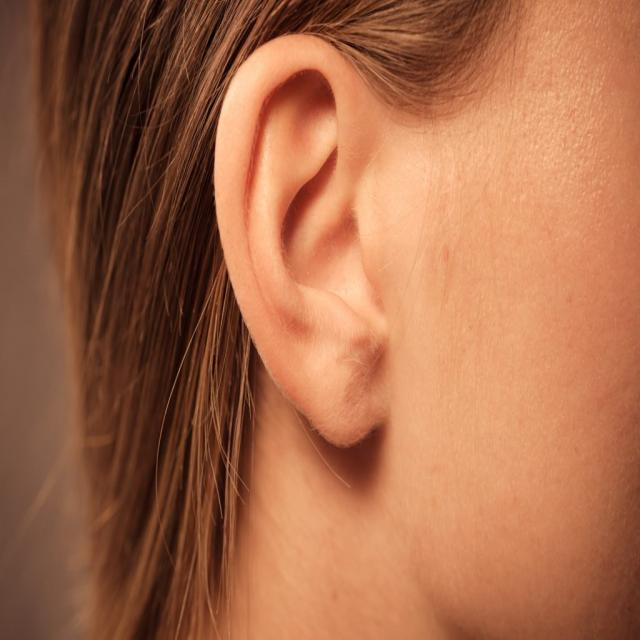earlobe: (214, 31, 388, 452)
